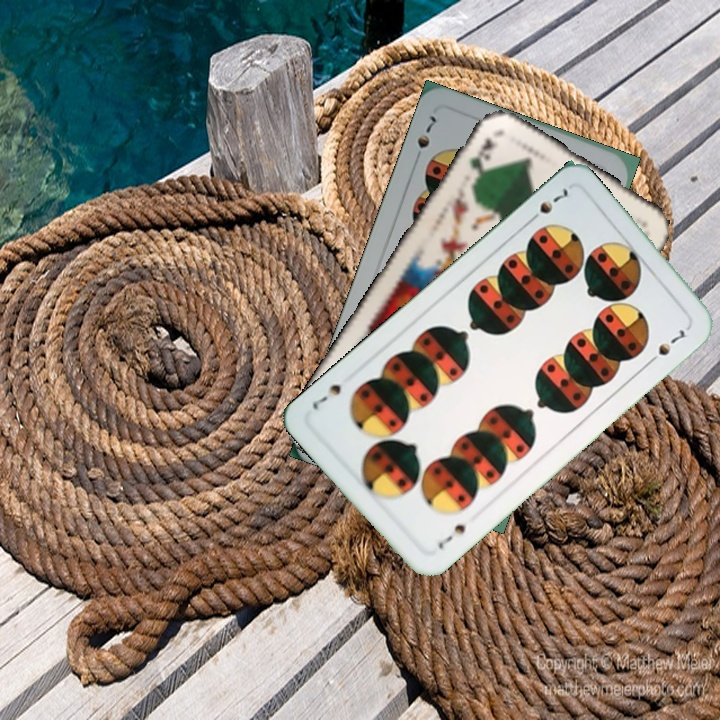GK: (465, 133, 496, 186)
S7: (523, 184, 571, 227), (410, 111, 439, 166), (433, 519, 471, 552)
